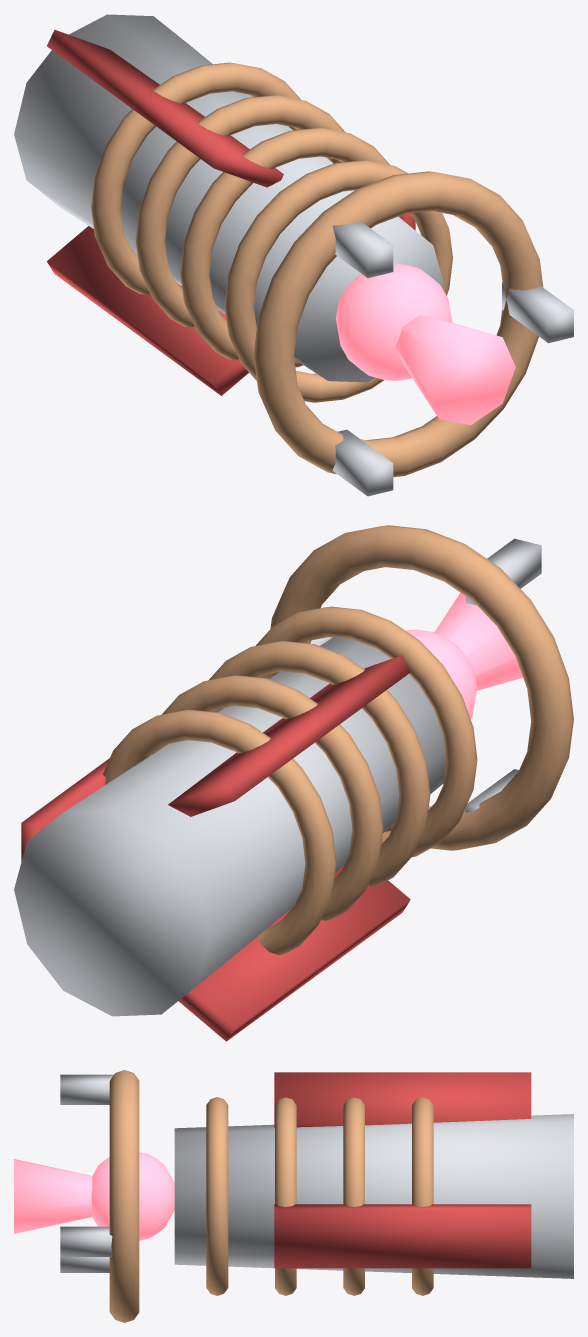
Rendered from peeler-laser.glb.
3 renders of one model, top to bottom at view 1: azimuth 30°, elevation 25°; view 2: azimuth 150°, elevation 25°; view 3: azimuth 270°, elevation 25°, orthographic. The views are drawn at different scales.
Parts seen in each view (by area): view 1: Laser_Chassis, Emitter_Ring, Ruby_Crystal; view 2: Laser_Chassis, Emitter_Ring, Ruby_Crystal; view 3: Laser_Chassis, Emitter_Ring, Ruby_Crystal.
Part boxes in pixels (bbox=[...]): Laser_Chassis: bbox=[14, 14, 452, 402]; Emitter_Ring: bbox=[253, 171, 573, 496]; Ruby_Crystal: bbox=[335, 263, 515, 424]; Laser_Chassis: bbox=[14, 606, 477, 1041]; Emitter_Ring: bbox=[270, 525, 573, 850]; Ruby_Crystal: bbox=[406, 592, 522, 718]; Laser_Chassis: bbox=[174, 1072, 573, 1295]; Emitter_Ring: bbox=[60, 1070, 139, 1322]; Ruby_Crystal: bbox=[14, 1152, 174, 1240].
Bounding box in the file's own units: 0.178 × 0.178 × 0.3925.
